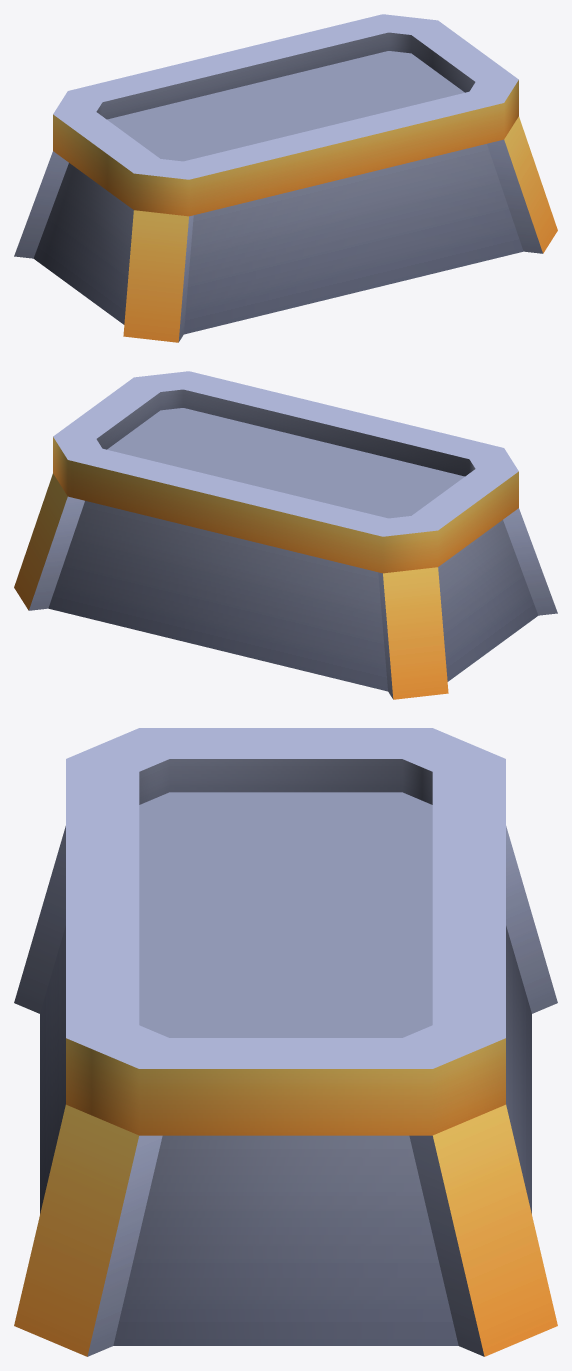
File: kenney-space-station-table-inset.glb
3 renders of one model, top to bottom at view 1: azimuth 30°, elevation 25°; view 2: azimuth 150°, elevation 25°; view 3: azimuth 270°, elevation 25°, orthographic. The views are drawn at different scales.
Parts seen in each view (by area): view 1: table-inset; view 2: table-inset; view 3: table-inset.
Part boxes in pixels (x1,y1,x2,y2): table-inset: (14,14,557,342); table-inset: (14,371,557,699); table-inset: (14,728,557,1356).
Bounding box in the file's own units: 1.24 × 0.4 × 0.7414.
1 material, 1 textured.
